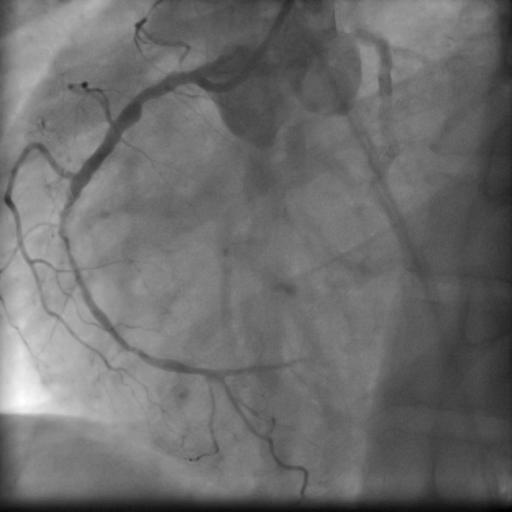Stenosis: (134, 85, 154, 110)
